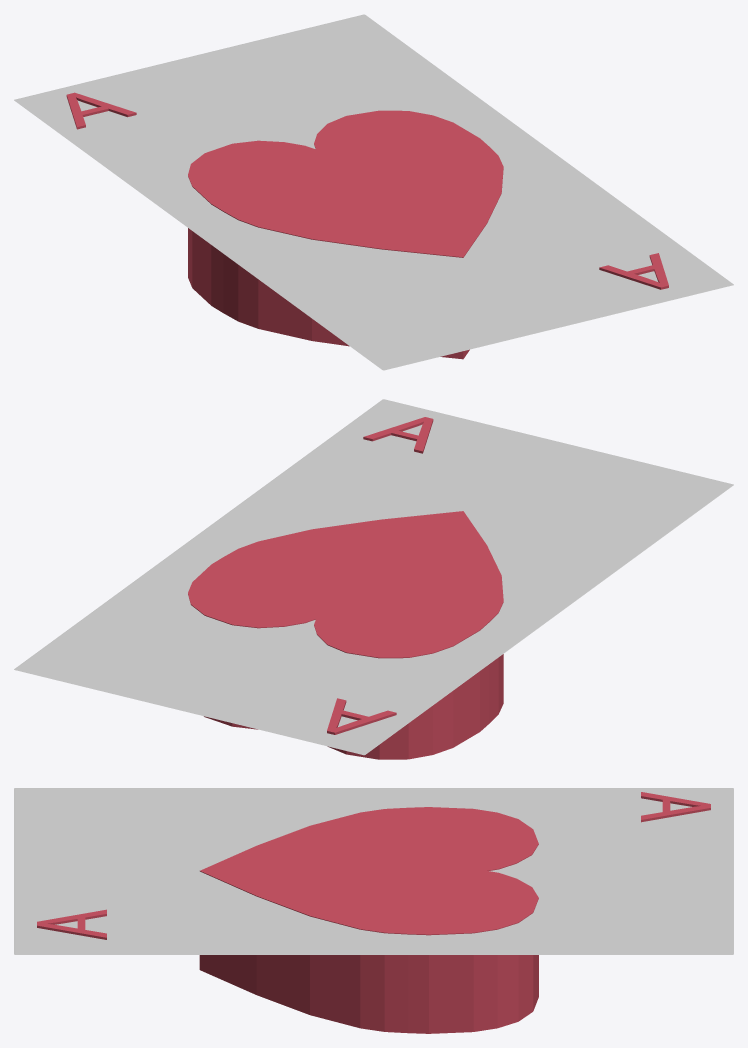
The model's file is heart.glb.
3 renders of one model, top to bottom at view 1: azimuth 30°, elevation 25°; view 2: azimuth 150°, elevation 25°; view 3: azimuth 270°, elevation 25°, orthographic. The views are drawn at different scales.
Parts seen in each view (by area): view 1: Mesh_Mesh_head_geo.001_lambert2SG.001; view 2: Mesh_Mesh_head_geo.001_lambert2SG.001; view 3: Mesh_Mesh_head_geo.001_lambert2SG.001.
Boxes of the visible parts, x1,y1,x2,y2 form: Mesh_Mesh_head_geo.001_lambert2SG.001: (14, 14, 733, 370); Mesh_Mesh_head_geo.001_lambert2SG.001: (14, 399, 733, 759); Mesh_Mesh_head_geo.001_lambert2SG.001: (14, 788, 733, 1033).
Size of the model in its own units: 13.16 by 3.77 by 24.
